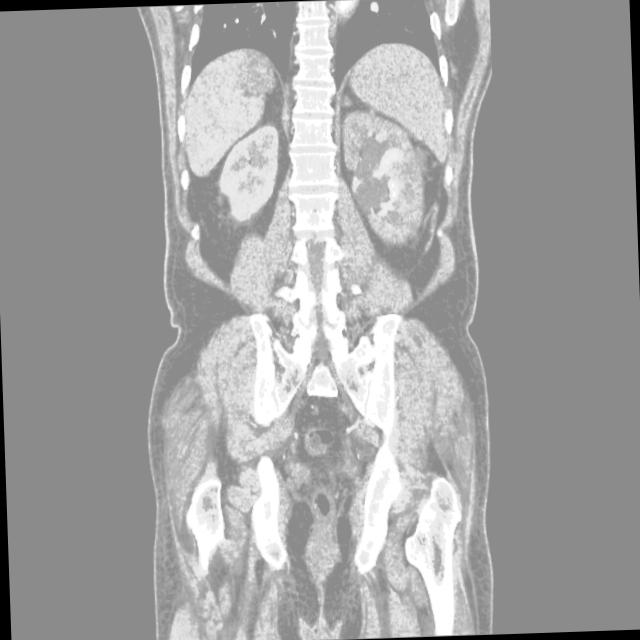TUMOR: (157, 134, 486, 352)
